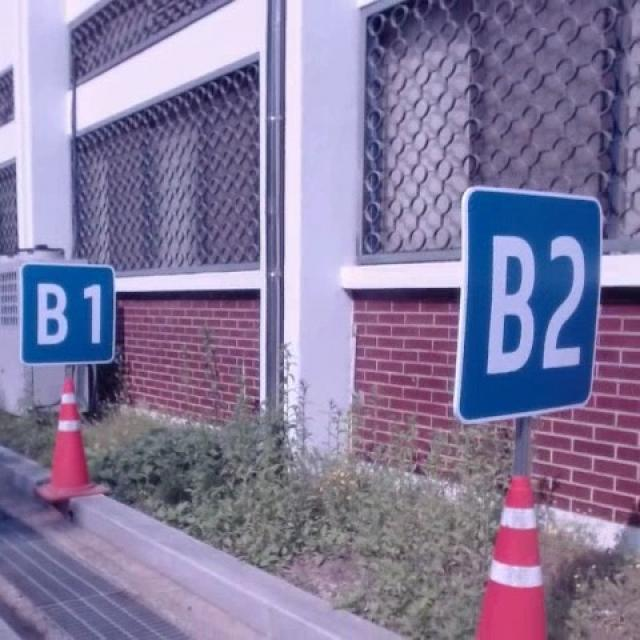b1: (15, 260, 120, 367)
b2: (450, 182, 601, 424)
